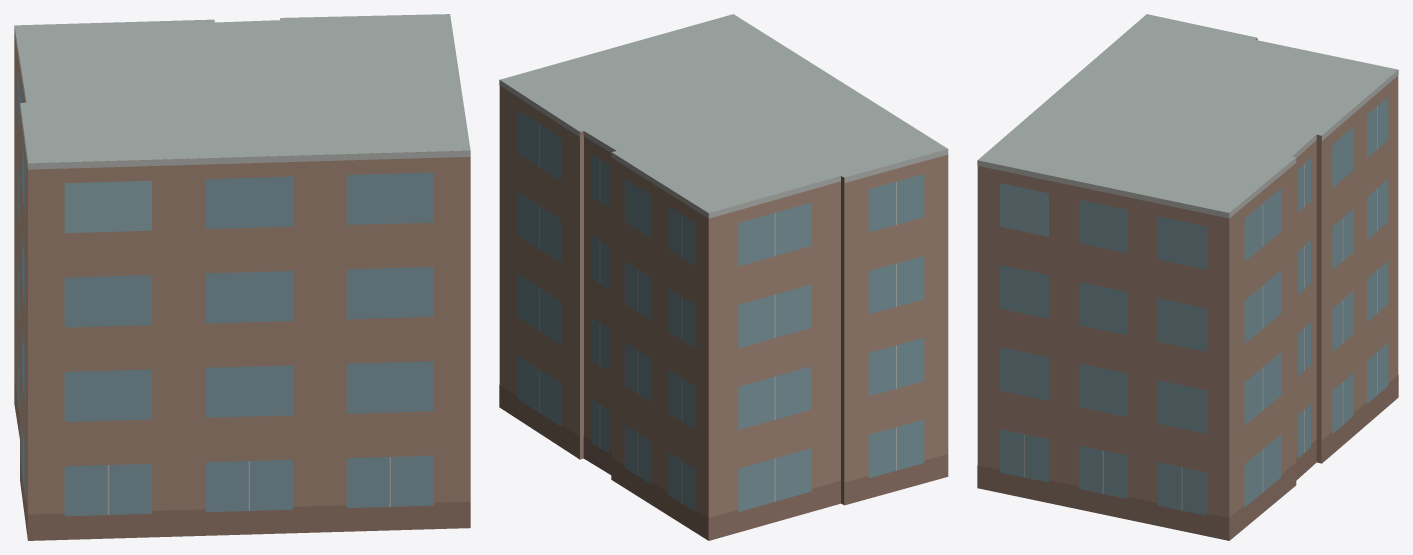
File: survey-upis-32746315.glb
3 renders of one model, left to right at view 1: azimuth 30°, elevation 25°; view 2: azimuth 150°, elevation 25°; view 3: azimuth 270°, elevation 25°, orthographic. The views are drawn at different scales.
Visible parts, largest first — view 1: survey-upis-32746315.tmp; view 2: survey-upis-32746315.tmp; view 3: survey-upis-32746315.tmp.
Boxes of the visible parts, <box> form: survey-upis-32746315.tmp: <box>14,14,470,540</box>; survey-upis-32746315.tmp: <box>499,14,948,540</box>; survey-upis-32746315.tmp: <box>977,14,1398,540</box>.
Size of the model in its own units: 19.15 by 14.7 by 17.12.
